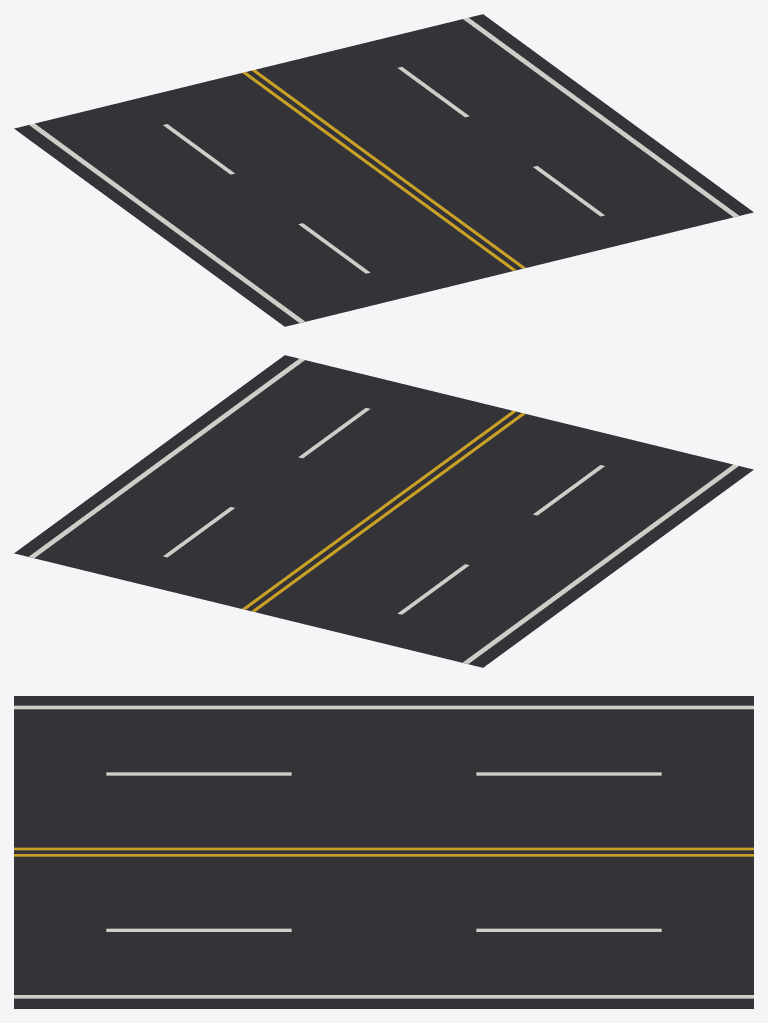
Rendered from road_straight.glb.
3 views of the same model, one above another, from view 1: azimuth 30°, elevation 25°; view 2: azimuth 150°, elevation 25°; view 3: azimuth 270°, elevation 25° (orthographic). The views are drawn at different scales.
Parts seen in each view (by area): view 1: road_straight; view 2: road_straight; view 3: road_straight.
Part boxes in pixels (bbox=[...]): road_straight: bbox=[14, 14, 753, 326]; road_straight: bbox=[14, 355, 753, 667]; road_straight: bbox=[14, 696, 753, 1008].
Size of what is drawn, in the model's own units: 12 by 0.006 by 12.
